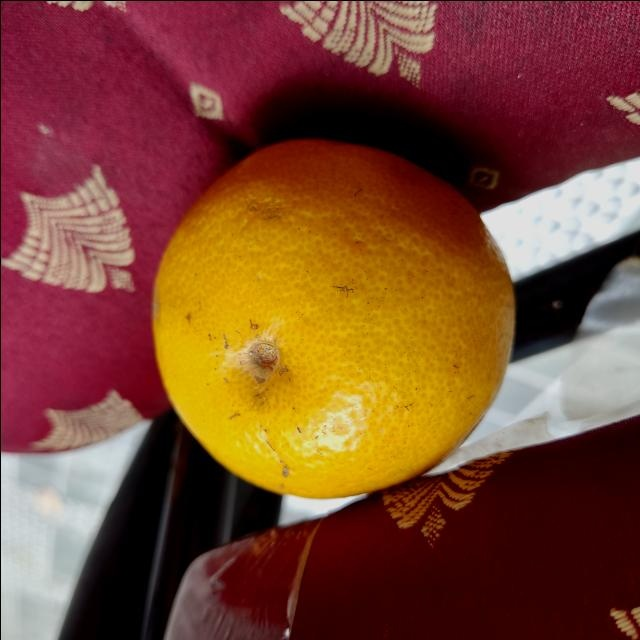agrume: (152, 137, 514, 499)
